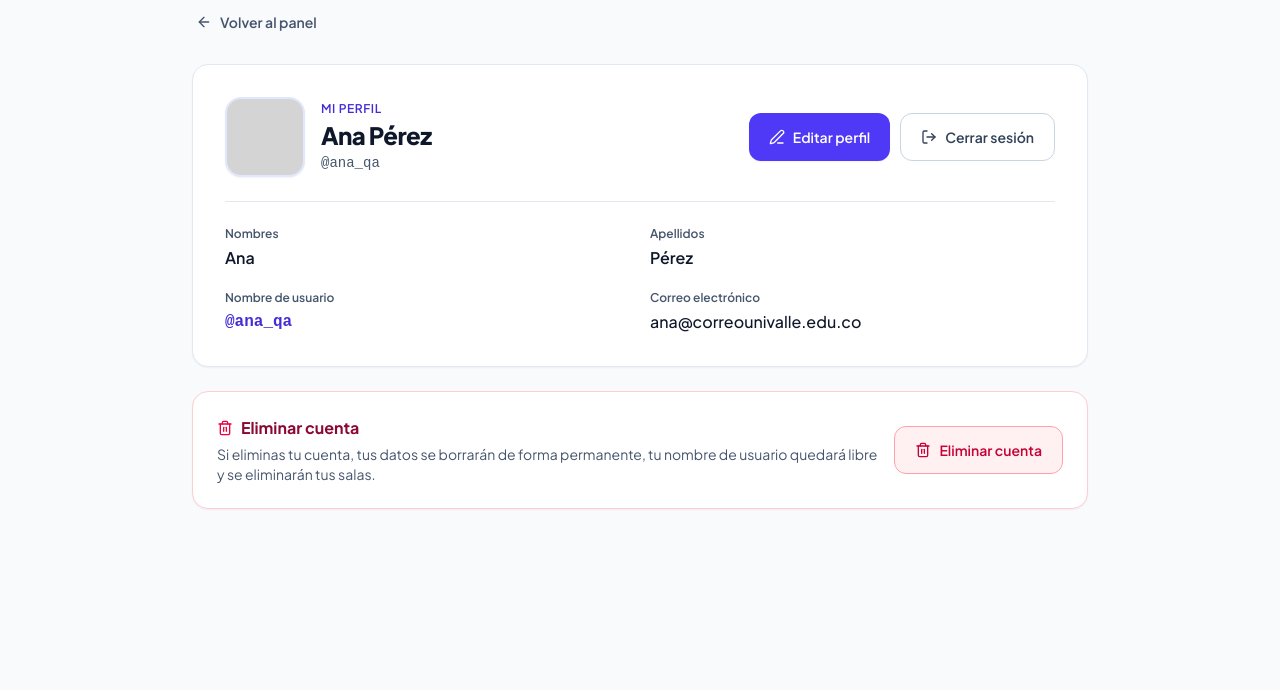
Scenario: US-04 | cambio de correo con sesión revocada › si no se puede renovar el token, cierra la sesión y explica en el login que ingrese con el correo nuevo
The width and height of the screenshot is (1280, 690).
Step 1. Click the button "Editar perfil" → (820, 137), box [749,113,890,161]
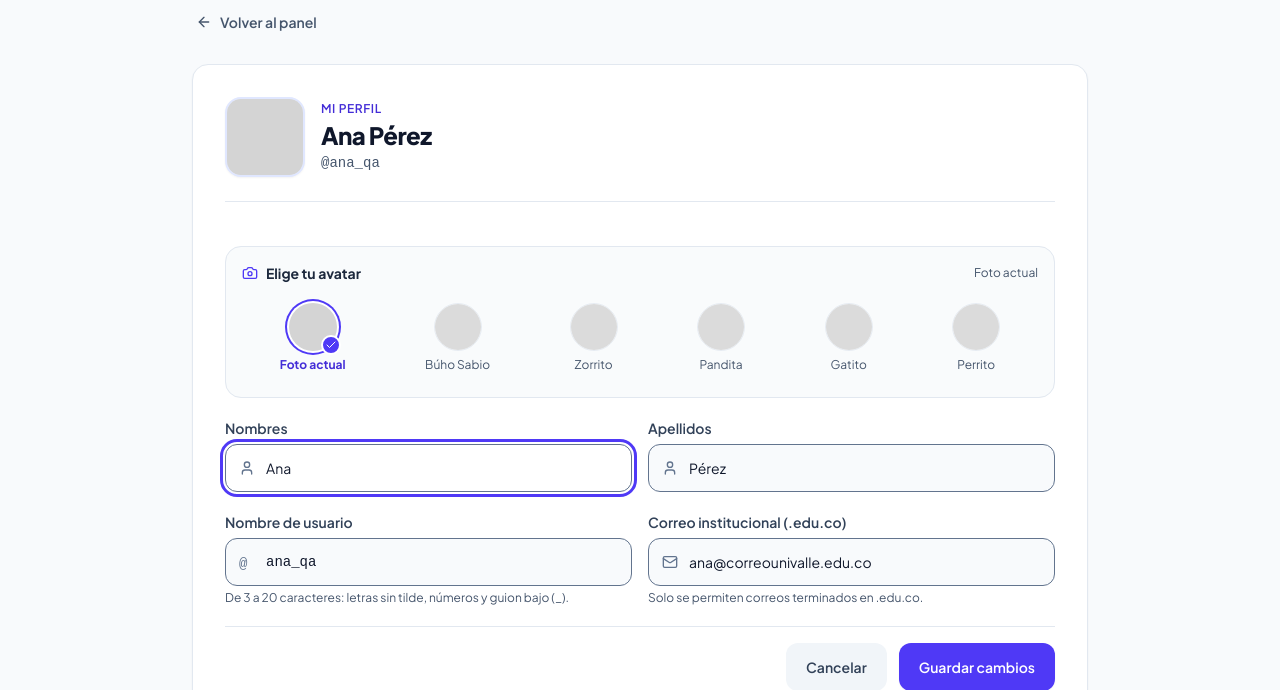
Step 2. Replace the text in the field labelled "Correo institucional (.edu.co)" with "ana.nueva@correounivalle.edu.co" → (852, 562), box [648,538,1055,586]
Then press Enter
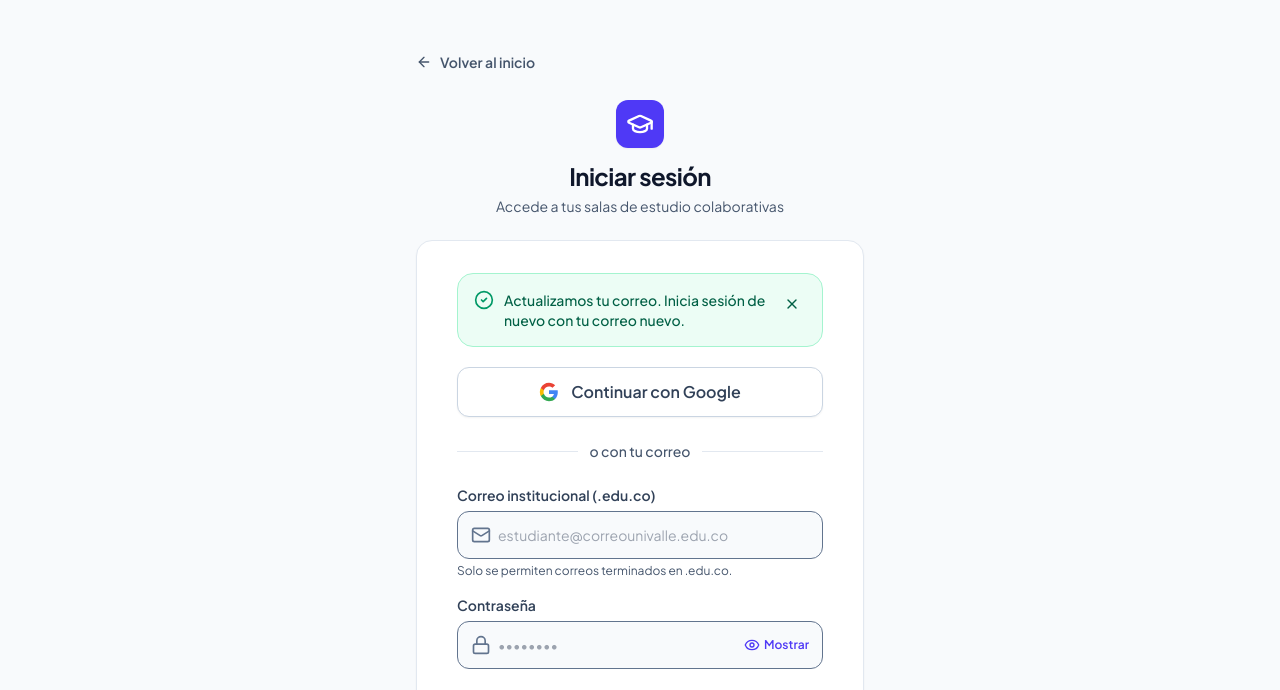
expect the heading "Iniciar sesión" is shown: met, box [569,160,711,192]
expect the text "Actualizamos tu correo. Inicia sesión de nuevo con tu correo nuevo." is shown: met, box [504,290,766,330]
